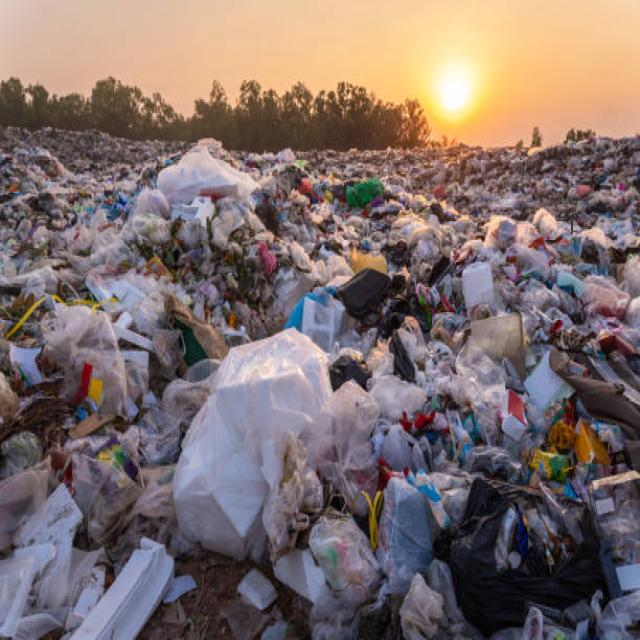plastic: (95, 171, 578, 590)
